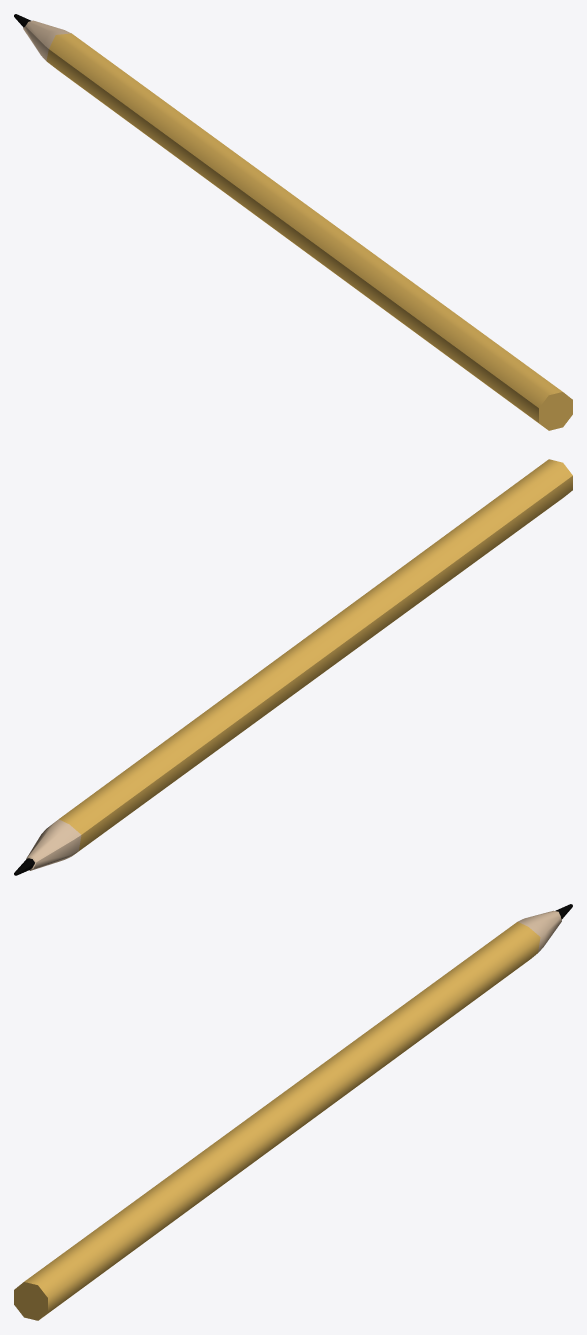
The model's file is pencil_yellow.fbx.
3 views of the same model, one above another, from view 1: azimuth 30°, elevation 25°; view 2: azimuth 150°, elevation 25°; view 3: azimuth 330°, elevation 25° (orthographic).
Visible parts, largest first — view 1: pencil_yellow; view 2: pencil_yellow; view 3: pencil_yellow.
Boxes of the visible parts, <box> form: pencil_yellow: <box>14,14,572,430</box>; pencil_yellow: <box>14,459,572,875</box>; pencil_yellow: <box>14,904,572,1320</box>.
Bounding box in the file's own units: 60.7 × 60.7 × 1667.
